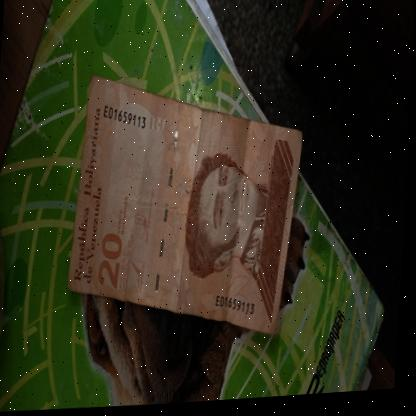twenty-front-vef: (64, 64, 309, 351)
